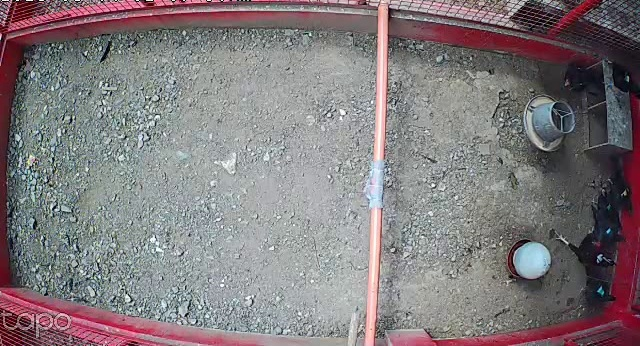Chicken: (584, 202, 628, 248), (600, 170, 634, 217), (577, 268, 617, 304), (562, 67, 599, 94)
Rooster: (549, 226, 619, 271)
Saddle_Color_Blue: (607, 228, 613, 235)
Saddle_Color_Yellow: (623, 187, 629, 197)
